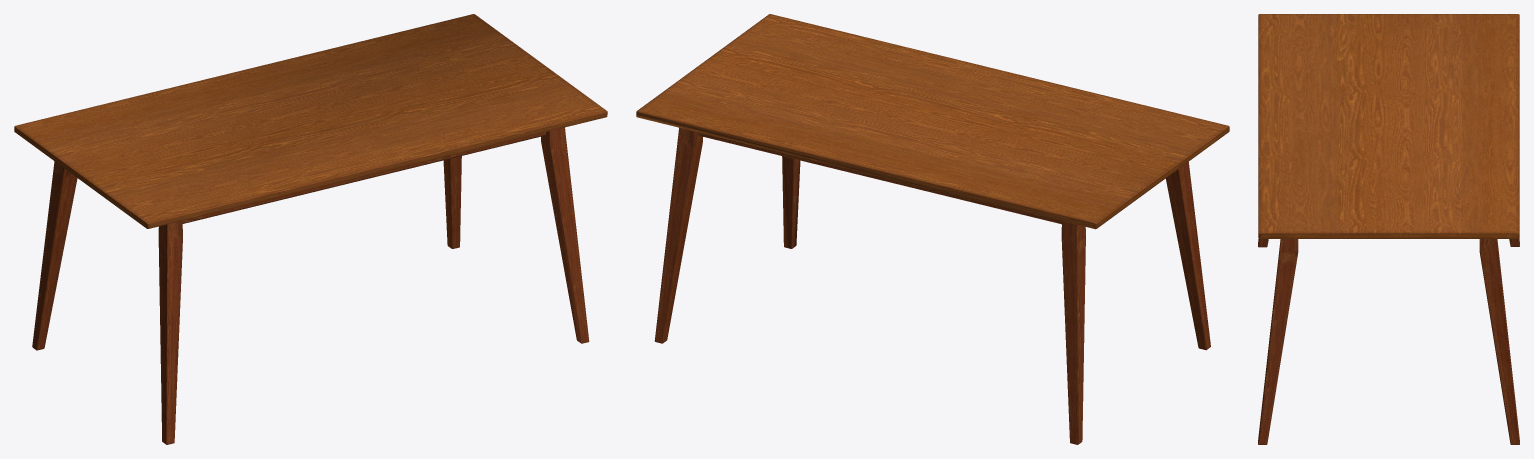
Rendered from dining_table_abo_B075YMXWZC.glb.
The picture shows the model from 3 angles, left to right: view 1: azimuth 30°, elevation 25°; view 2: azimuth 150°, elevation 25°; view 3: azimuth 270°, elevation 25°; orthographic projection. The views are drawn at different scales.
Visible parts, largest first — view 1: RootNode; view 2: RootNode; view 3: RootNode.
Part boxes in pixels (x1,y1,x2,y2): RootNode: (14,14,607,444); RootNode: (636,14,1229,444); RootNode: (1258,14,1519,444).
Size of the model in its own units: 1.61 by 0.7554 by 0.8112.
Materials: 1 (1 with a texture image).
